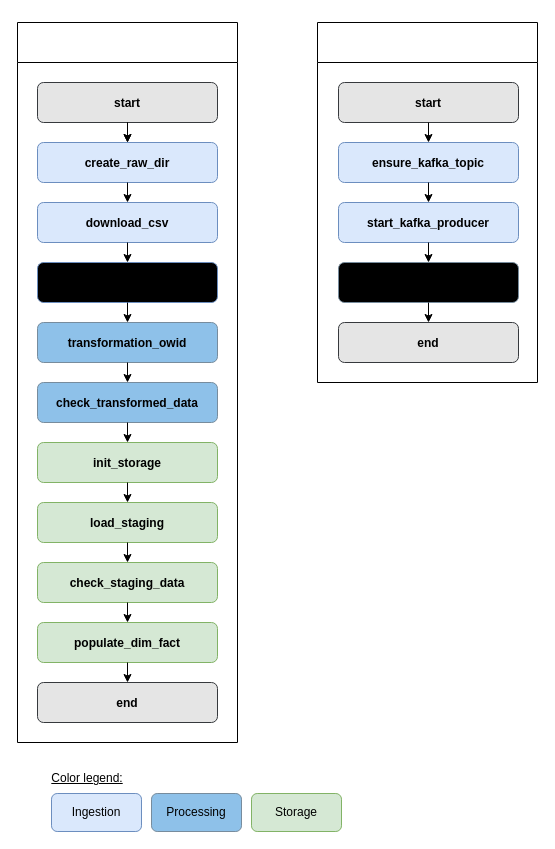
This 555x849 diagram has some shape labels left out. The centre of each missing label's shape, as x and y in pixels:
"DAG batch pipeline" goes at (127,382).
"DAG streaming pipeline" goes at (427,202).
